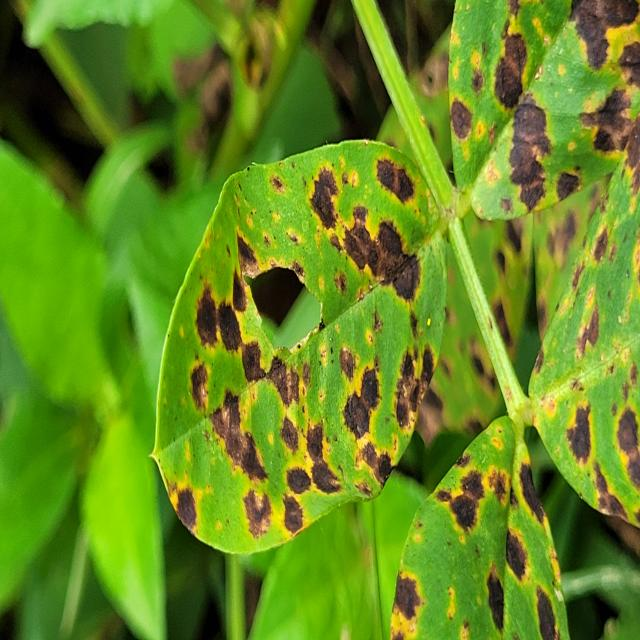Ground nut_tikka leaf spot: (150, 133, 452, 555), (389, 398, 571, 640), (448, 0, 640, 225)
